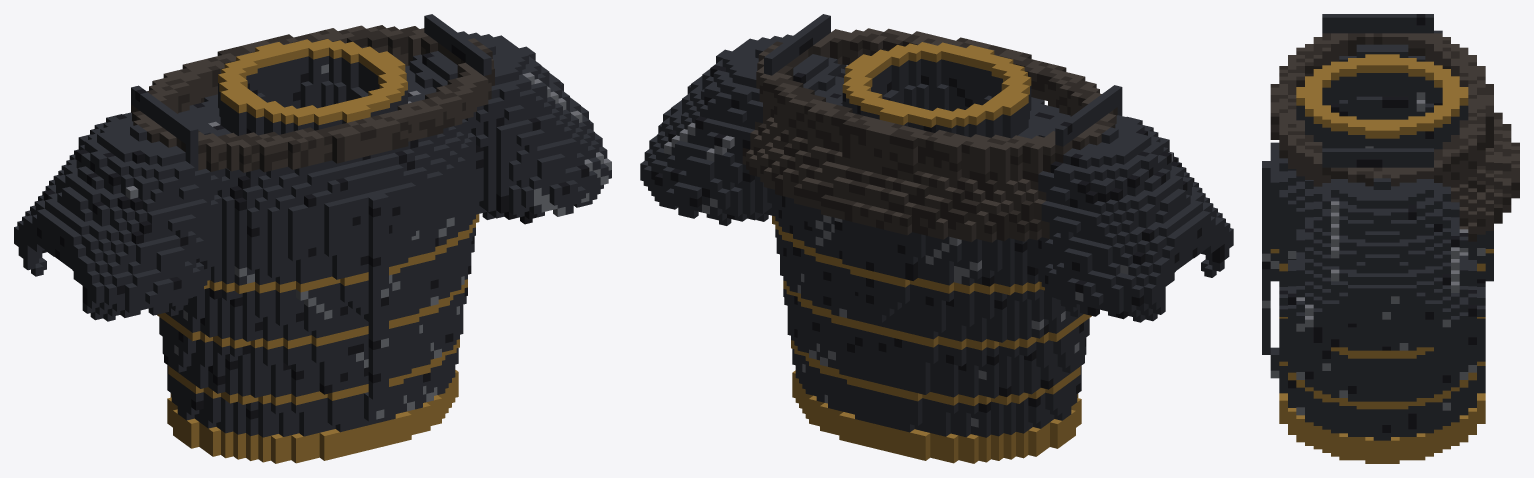
File: steel_breastplate.glb
3 views of the same model, side by side, from view 1: azimuth 30°, elevation 25°; view 2: azimuth 150°, elevation 25°; view 3: azimuth 270°, elevation 25° (orthographic). The views are drawn at different scales.
Parts seen in each view (by area): view 1: steel_breastplate; view 2: steel_breastplate; view 3: steel_breastplate.
Part boxes in pixels (left/top/right/bottom): steel_breastplate: left=14, top=14, right=611, bottom=463; steel_breastplate: left=640, top=14, right=1233, bottom=463; steel_breastplate: left=1262, top=14, right=1519, bottom=463.
Size of the model in its own units: 0.78 by 0.492 by 0.36.
